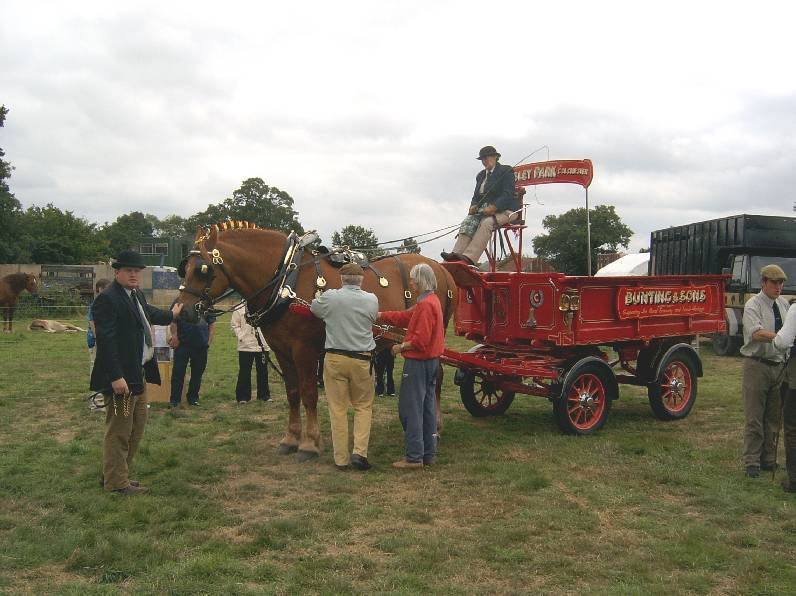horse: (172, 217, 459, 463)
